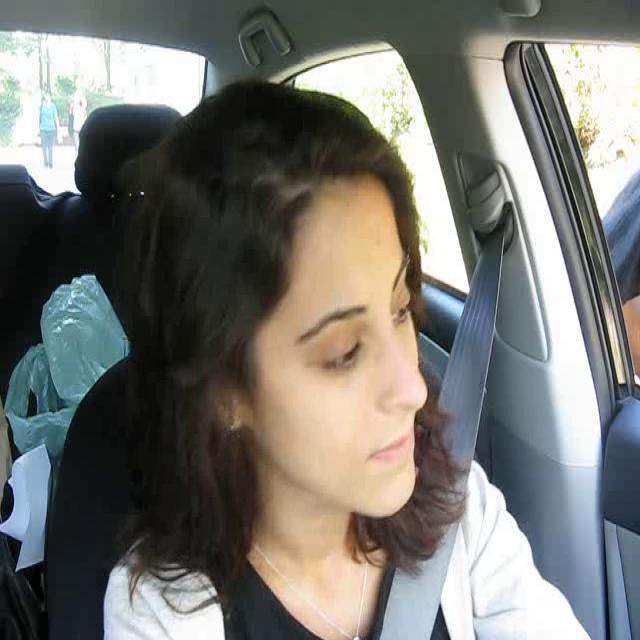close: (358, 415, 418, 471)
